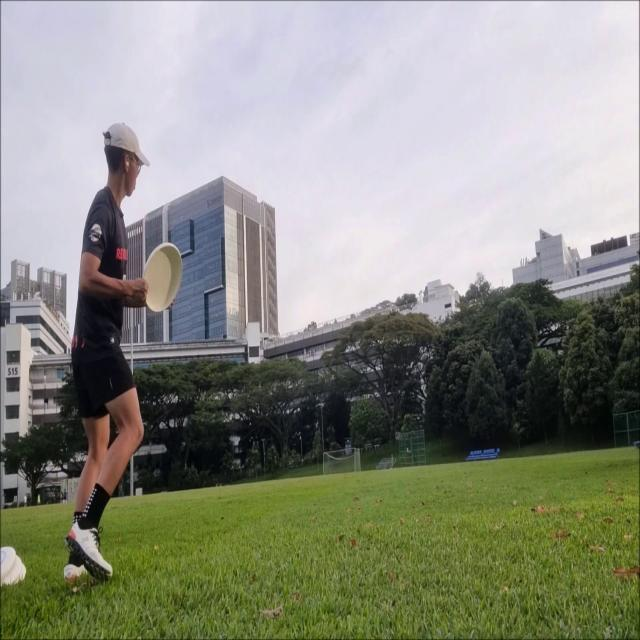disc: (142, 241, 183, 313)
